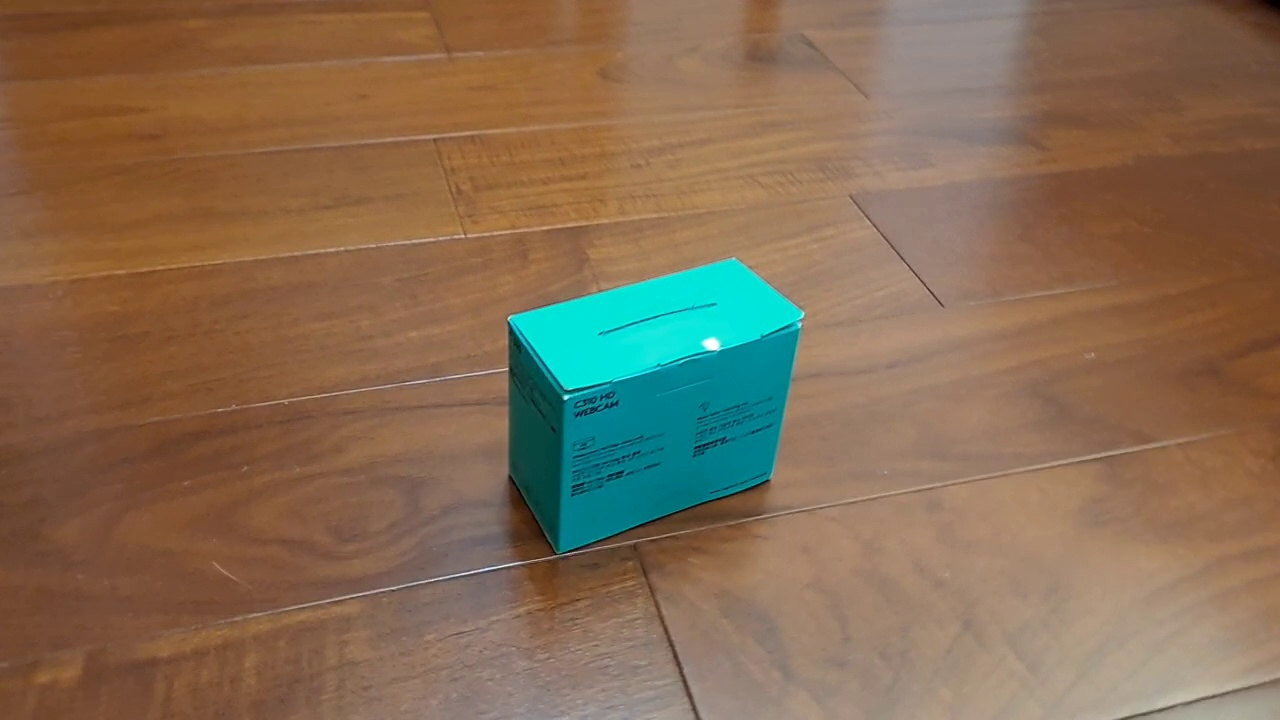webcam: (505, 255, 807, 557)
